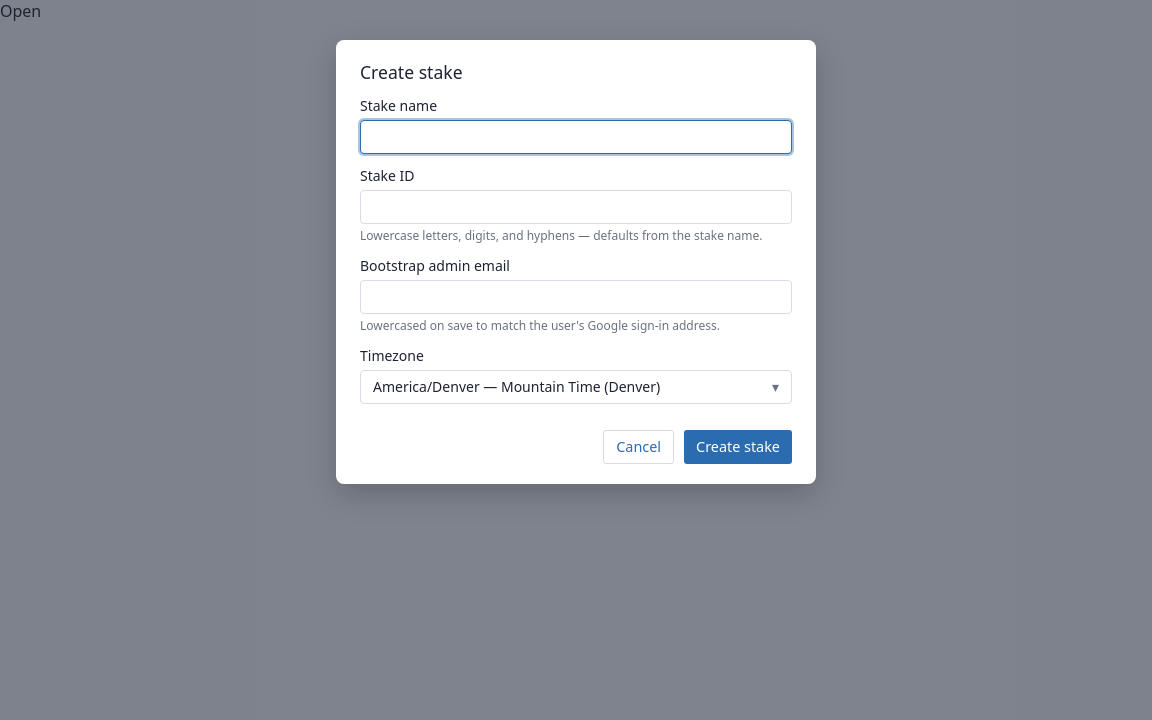
Test: <CreateStakeForm /> › blocks submit when bootstrap_admin_email is malformed
The image size is (1152, 720).
Type "Cottonwood South Stake" into the field with test id "create-stake-name" at {"x": 576, "y": 136}, box [360,120,792,154]
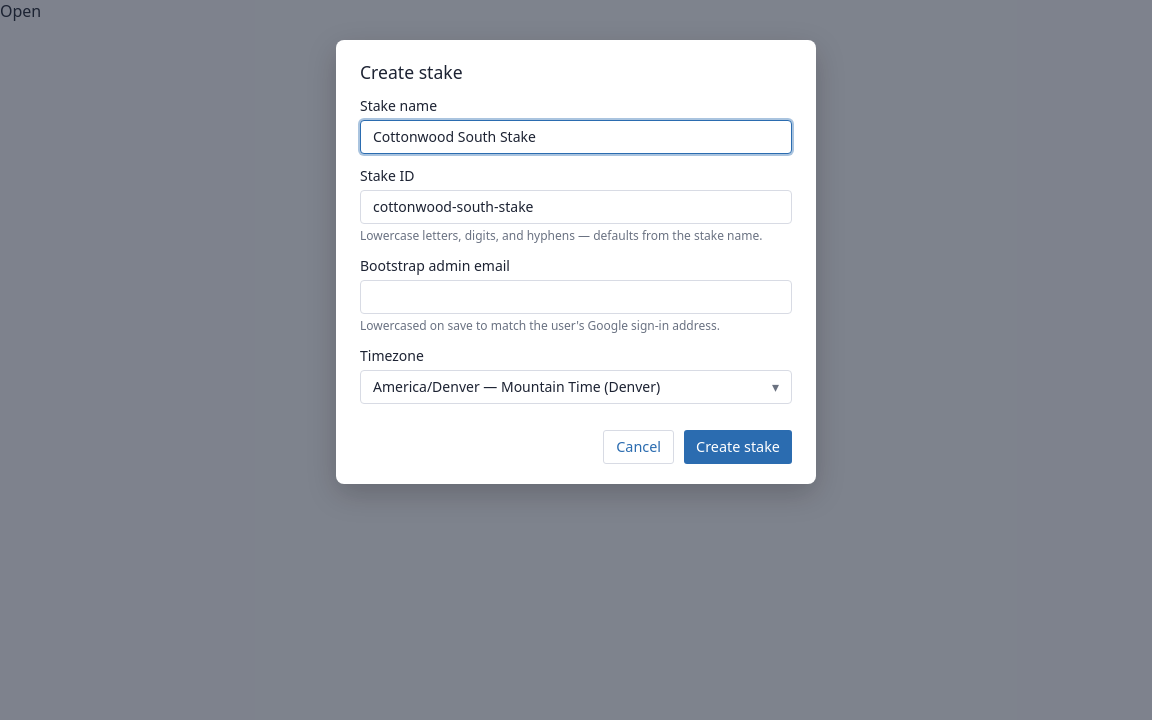
Type "not-an-email" into the field with test id "create-stake-email" at {"x": 576, "y": 296}, box [360,280,792,314]
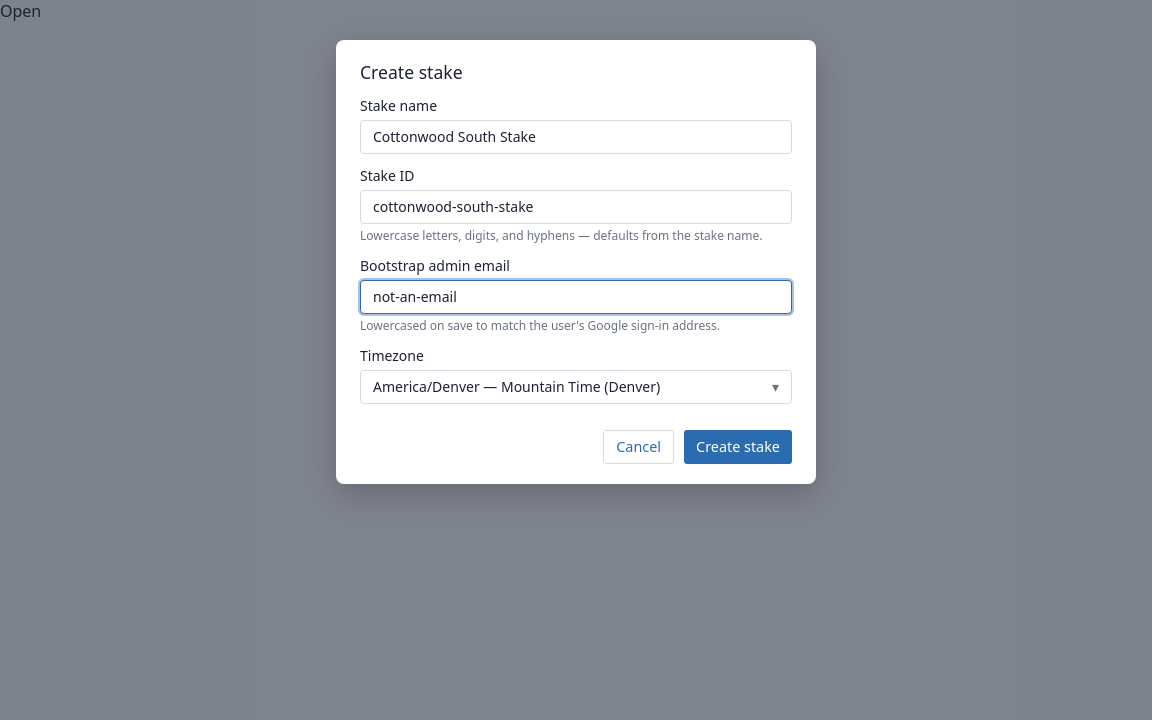
Click the button with test id "create-stake-submit" at {"x": 738, "y": 447}, box [684,430,792,464]
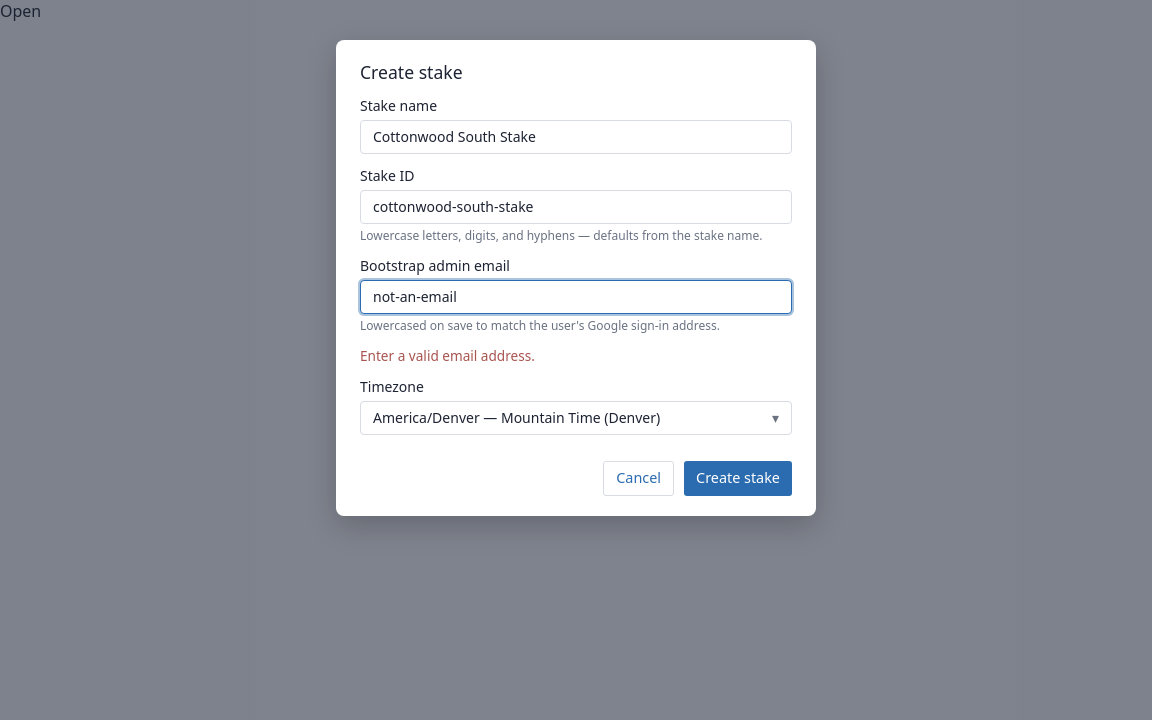
Expected: the message with test id "create-stake-email-error" shows "valid email", [360,346,535,364]
